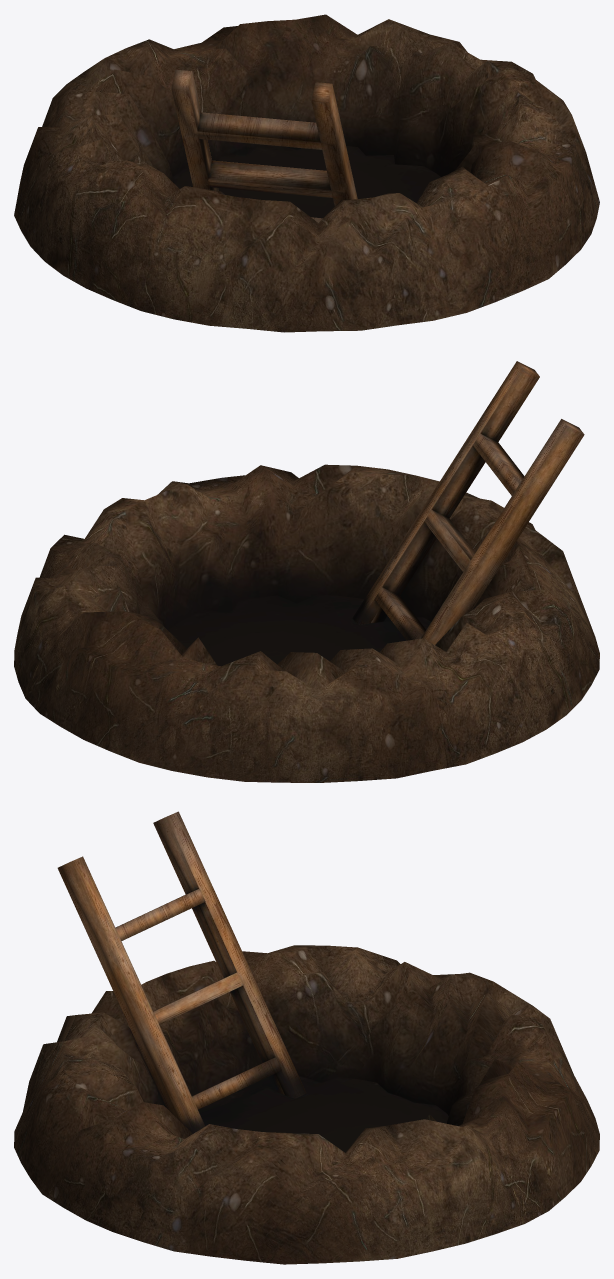
Rendered from CaveHole.glb.
3 views of the same model, one above another, from view 1: azimuth 30°, elevation 25°; view 2: azimuth 150°, elevation 25°; view 3: azimuth 270°, elevation 25° (orthographic).
Visible parts, largest first — view 1: Torus; view 2: Torus; view 3: Torus.
Part boxes in pixels (bbox=[...]): Torus: bbox=[14, 14, 599, 332]; Torus: bbox=[14, 361, 599, 782]; Torus: bbox=[14, 811, 599, 1264].
Size of what is drawn, in the model's own units: 2.7 by 1.43 by 2.72.
Materials: 1 (1 with a texture image).
